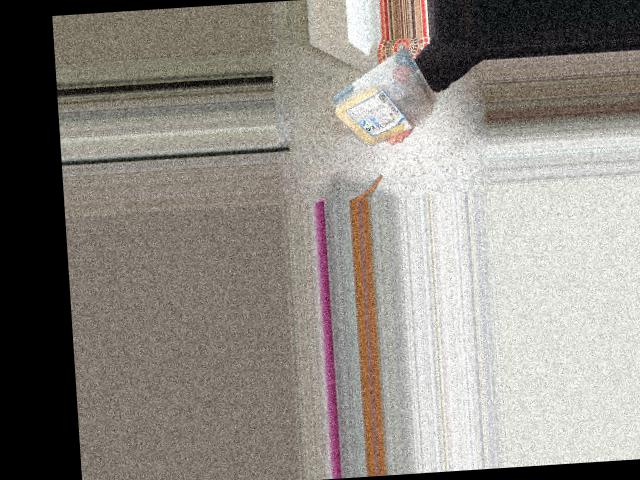cheese: (323, 39, 444, 156)
